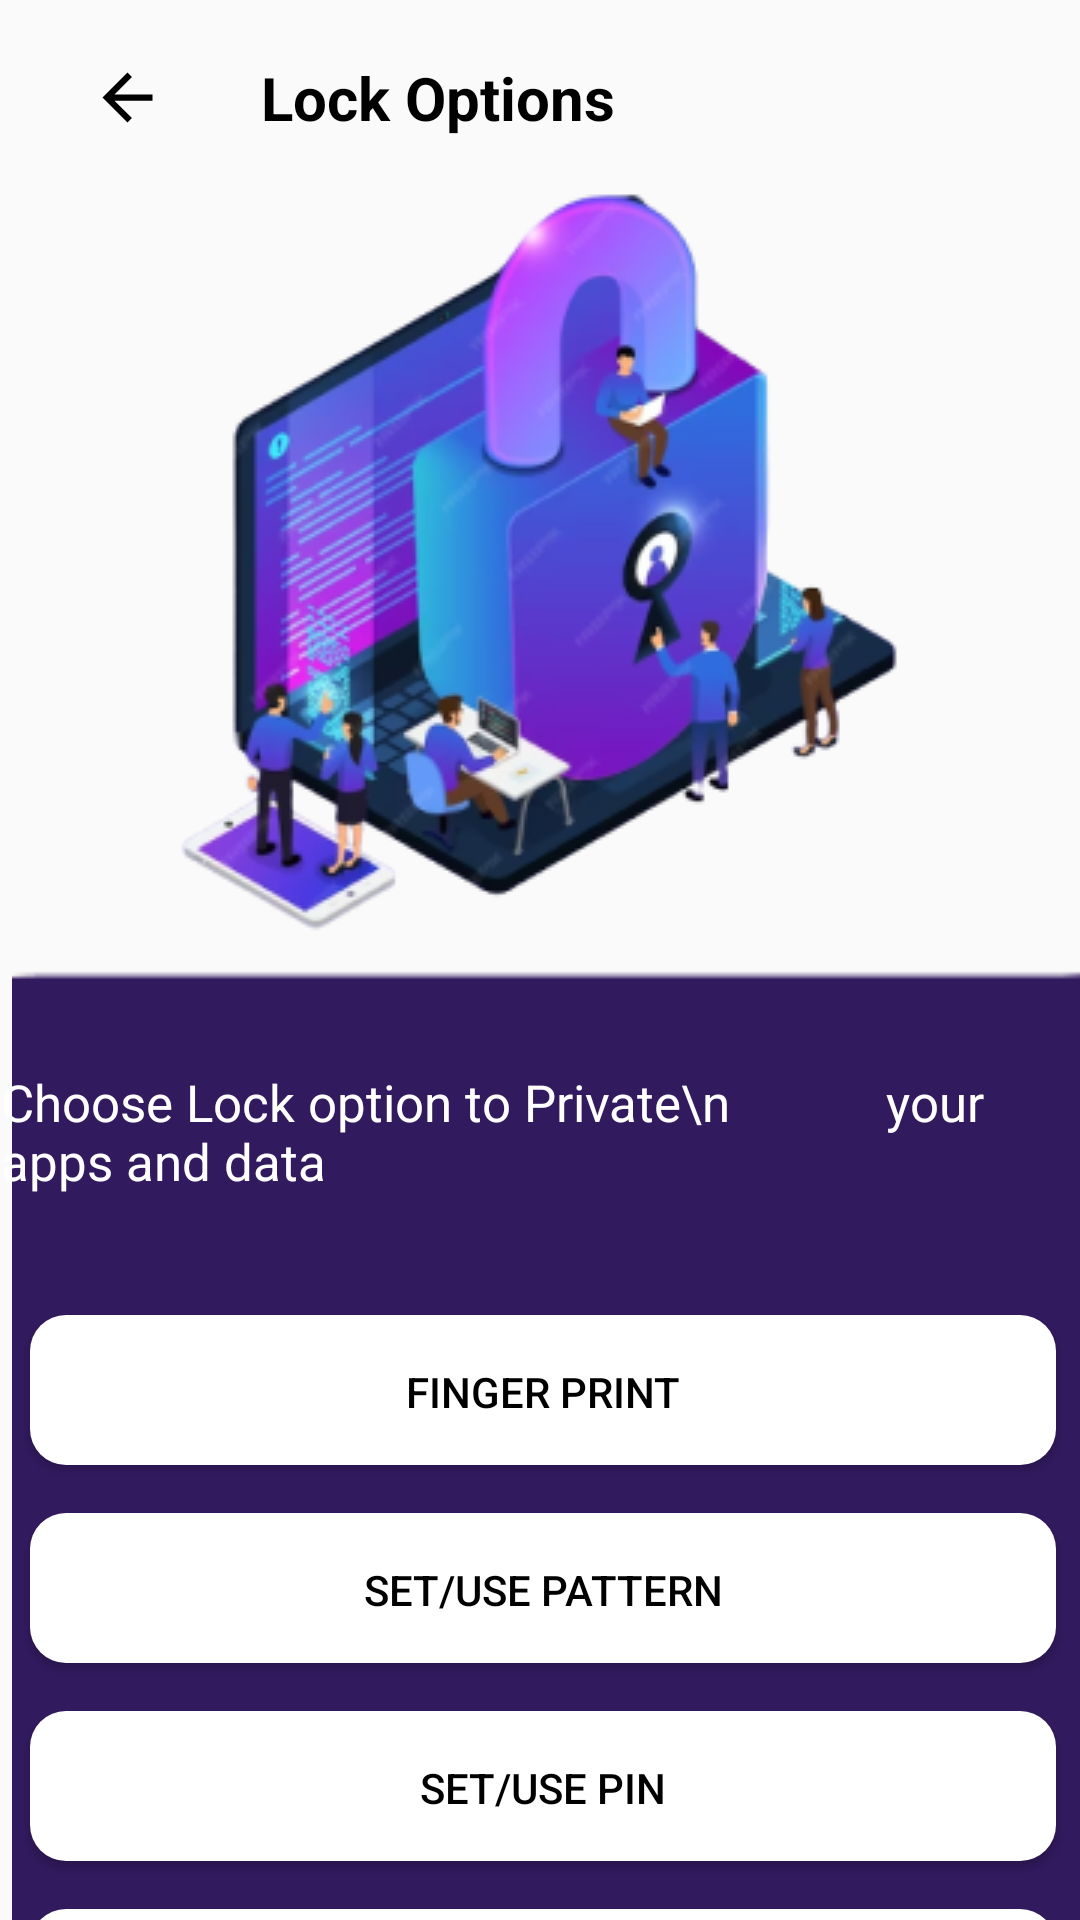

Icon click points for this 1080 x 1920 phone screenshot, format point (x, y):
Back Arrow: point (127, 97)
